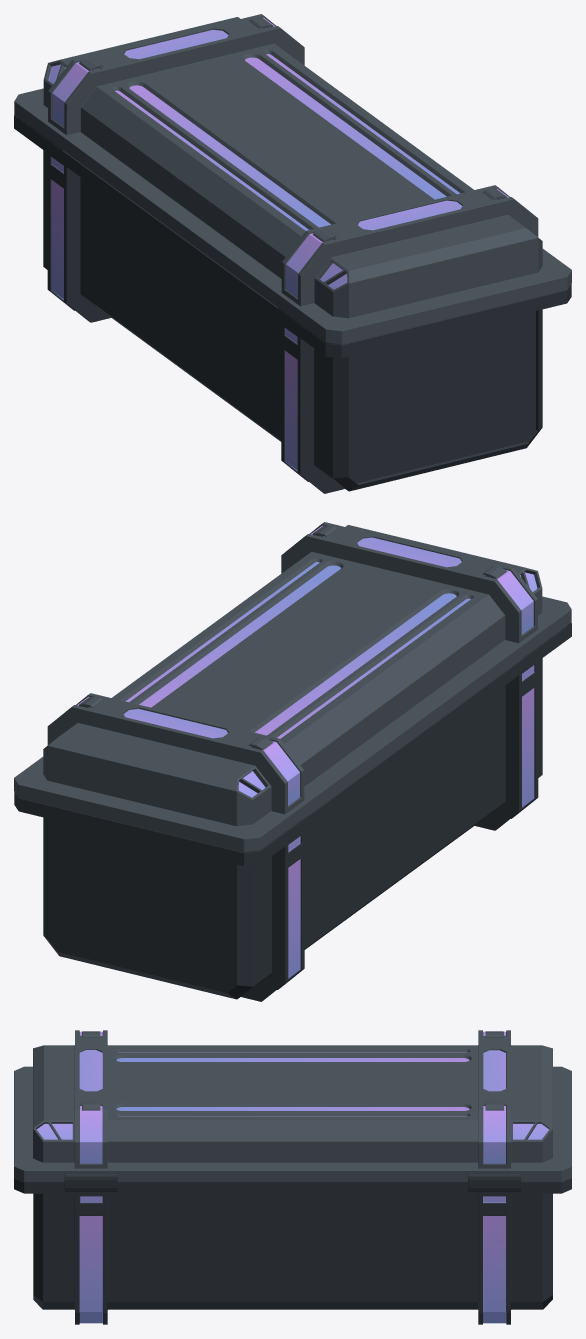
Rendered from Crate.fbx.
3 renders of one model, top to bottom at view 1: azimuth 30°, elevation 25°; view 2: azimuth 150°, elevation 25°; view 3: azimuth 270°, elevation 25°, orthographic. The views are drawn at different scales.
Visible parts, largest first — view 1: Crate; view 2: Crate; view 3: Crate.
Part boxes in pixels (x1,y1,x2,y2): Crate: [14, 14, 571, 493]; Crate: [14, 522, 571, 1001]; Crate: [14, 1030, 571, 1324].
Size of the model in its own units: 239 by 229 by 534.
Materials: 1 (1 with a texture image).
